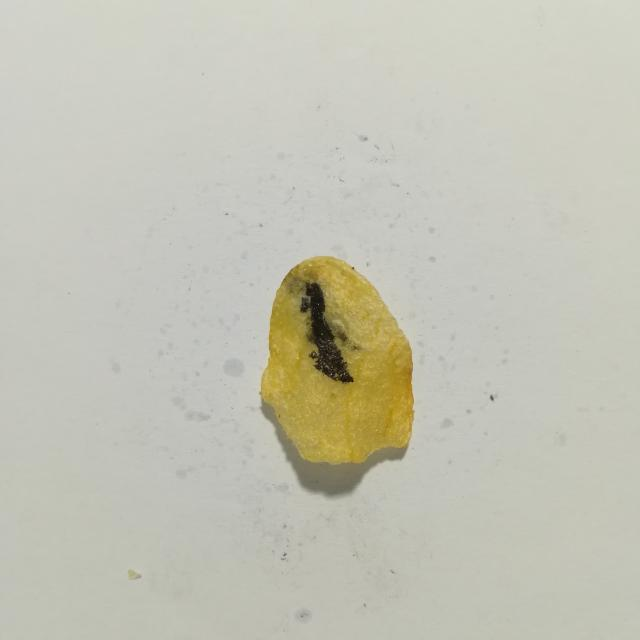chip: (261, 257, 414, 464)
damaged: (300, 283, 353, 383)
semi-damaged: (326, 318, 361, 350), (288, 277, 306, 296)
